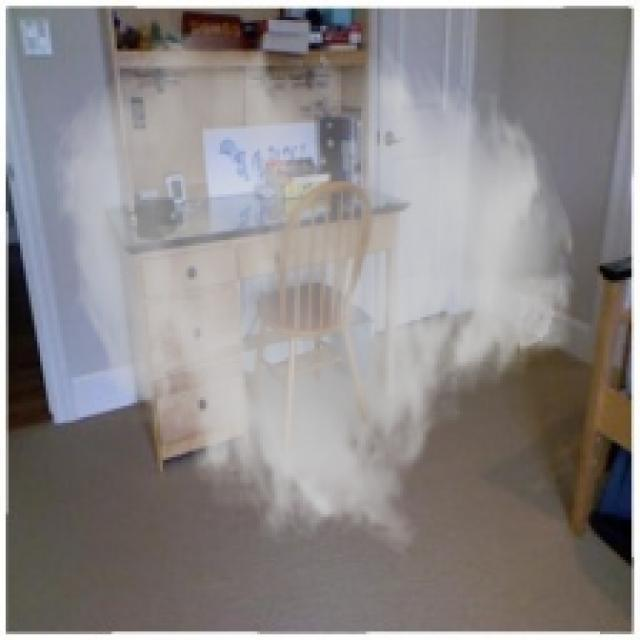Smoke: (48, 20, 580, 557)
